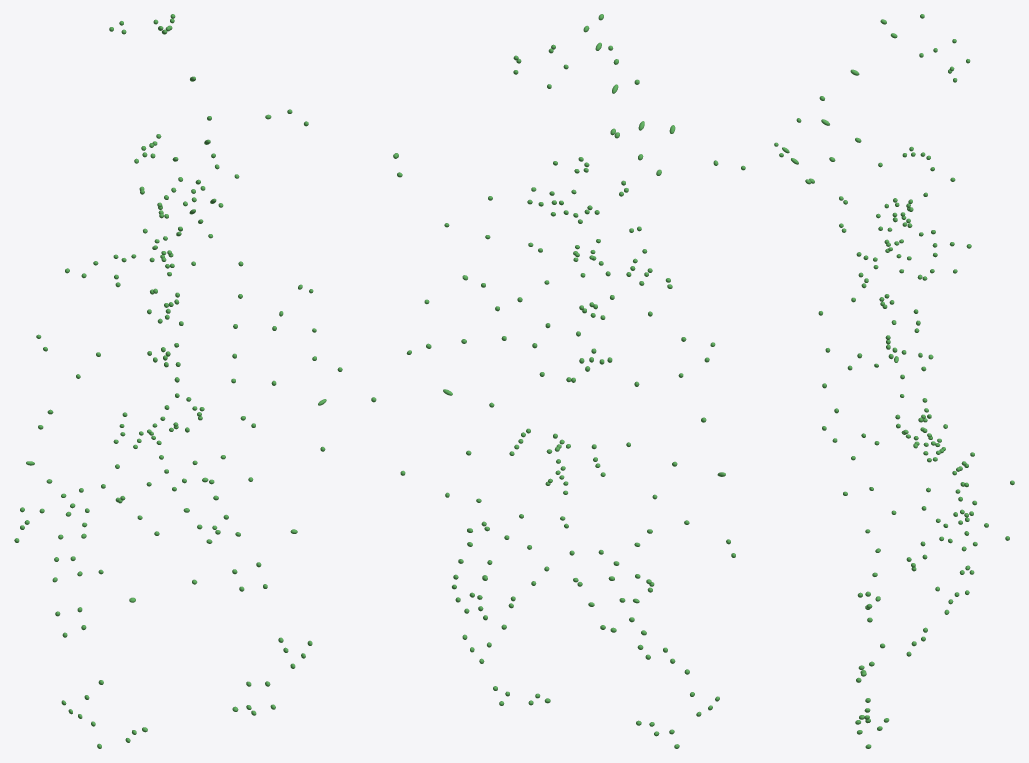
Rendered from lymphatic.abdomen.glb.
3 views of the same model, side by side, from view 1: azimuth 30°, elevation 25°; view 2: azimuth 150°, elevation 25°; view 3: azimuth 270°, elevation 25° (orthographic). The views are drawn at different scales.
Bounding box in the file's own units: 0.1993 × 0.393 × 0.1261.
